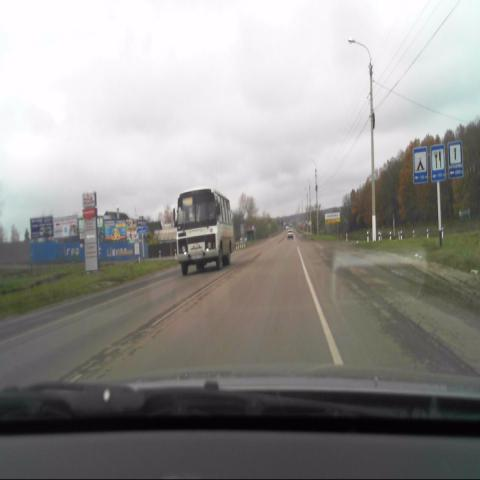7_4: (448, 143, 463, 178)
7_7: (432, 145, 446, 182)
